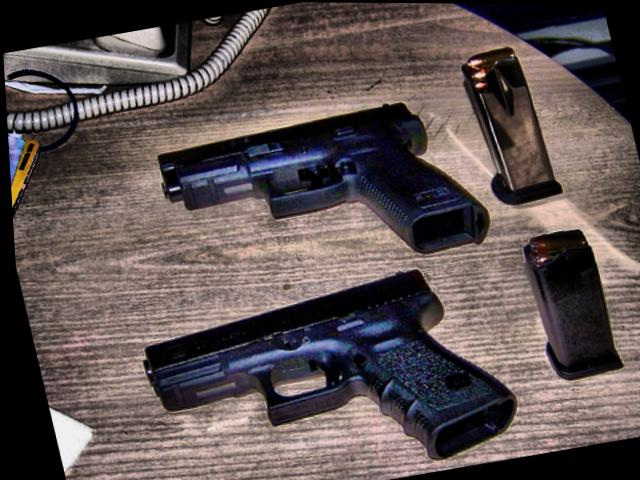pistol: (124, 253, 518, 480), (145, 88, 492, 299)
